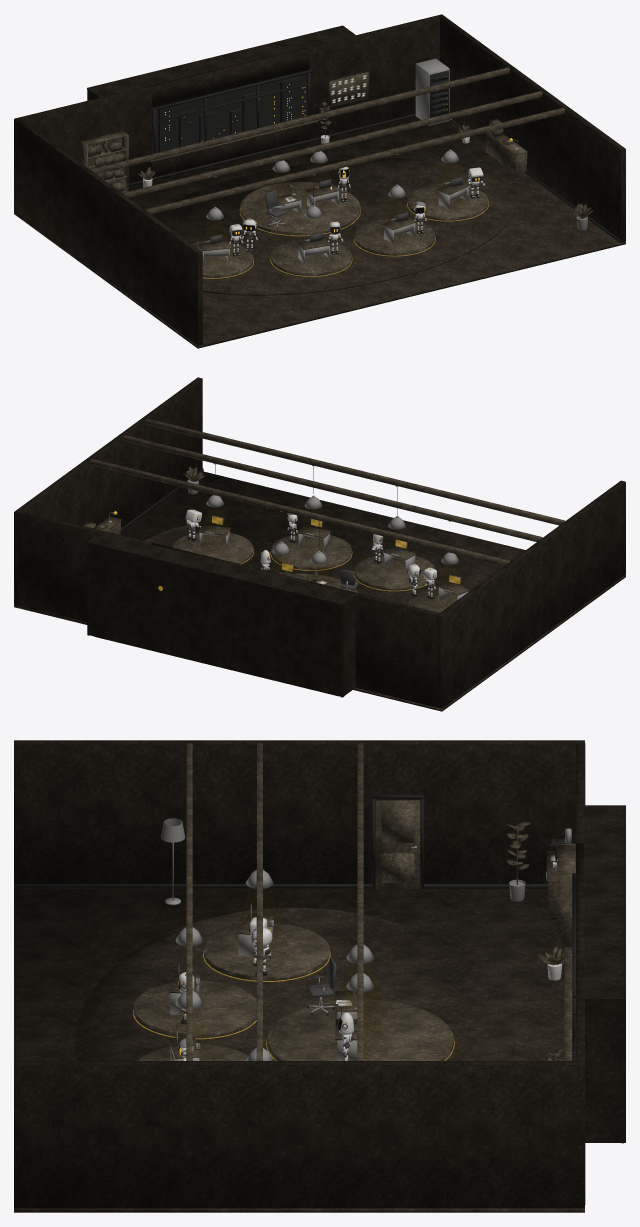
The model's file is mobile.glb.
3 views of the same model, one above another, from view 1: azimuth 30°, elevation 25°; view 2: azimuth 150°, elevation 25°; view 3: azimuth 270°, elevation 25° (orthographic). The views are drawn at different scales.
Parts seen in each view (by area): view 1: office_set; view 2: office_set; view 3: office_set.
Boxes of the visible parts, bbox=[...] form: office_set: bbox=[14, 14, 625, 348]; office_set: bbox=[14, 377, 625, 711]; office_set: bbox=[14, 740, 625, 1212].
Size of the model in its own units: 16.4 by 3.51 by 13.07.
20 materials, 6 textured.
